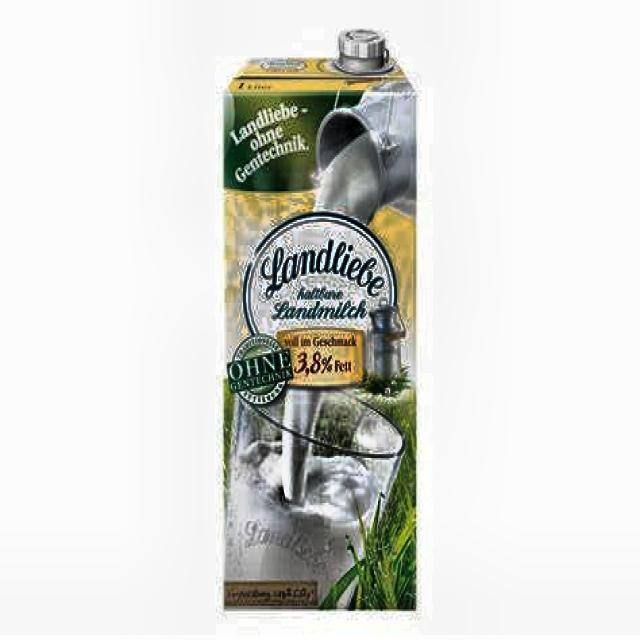cardboard: (220, 31, 417, 610)
